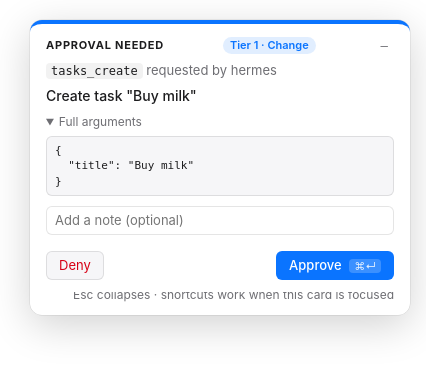
Test: ApprovalCard › shows an error if the decision fails
Click the button with test id "approve-btn" at (335, 266), box [276, 251, 394, 280]
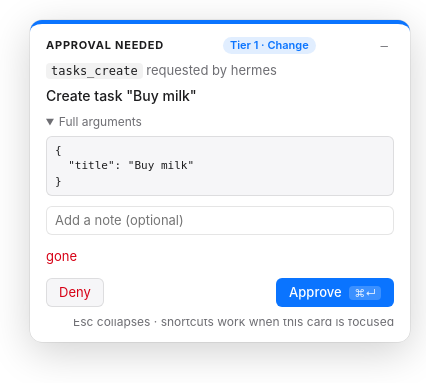
Expected: the message reads "gone", [46, 248, 77, 264]
